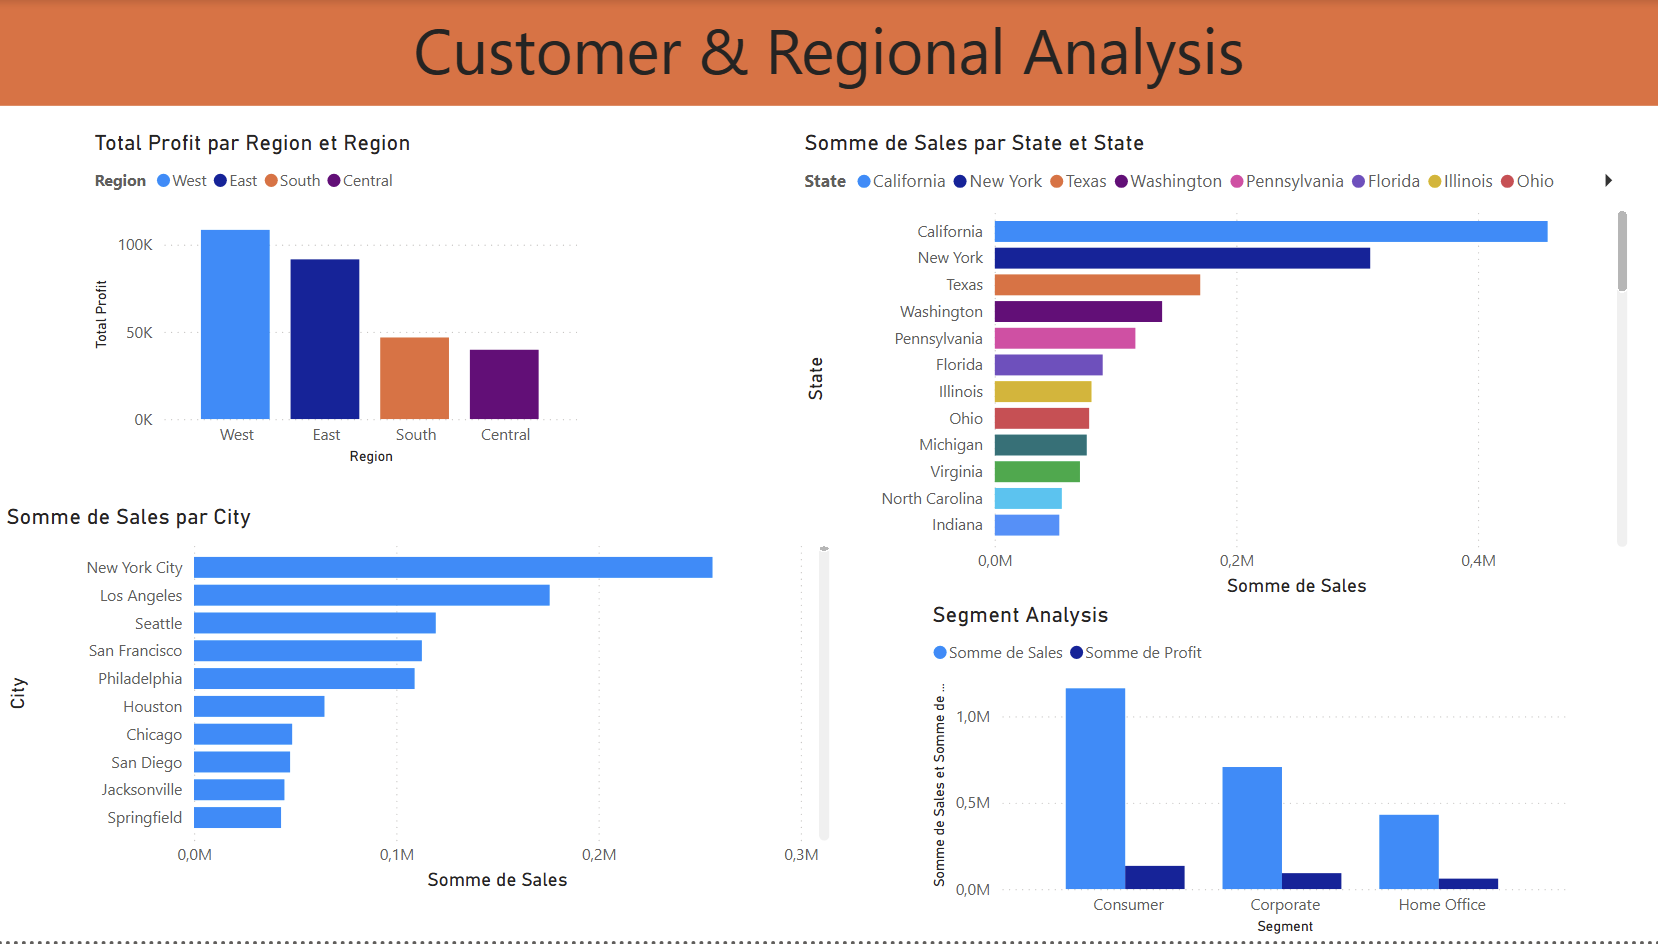

The page's visual inventory and layout, read from the dashboard file:
{"tool":"powerbi","page":{"name":"Customer & Regional Analysis","canvas":[1280,720],"ordinal":2},"visuals":[{"type":"textbox","box":[10.7,0,1269.3,81.1],"z":0},{"type":"columnChart","fields":{"Category":["SampleSuperstore.Region"],"Y":["SampleSuperstore.Total Profit"],"Series":["SampleSuperstore.Region"]},"box":[78.1,99.5,379.7,260.3],"z":1000},{"type":"barChart","fields":{"Category":["SampleSuperstore.State"],"Y":["Sum(SampleSuperstore.Sales)"],"Series":["SampleSuperstore.State"]},"box":[621.6,99.5,640,361.3],"z":2000},{"type":"clusteredColumnChart","title":"Segment Analysis","fields":{"Category":["SampleSuperstore.Segment"],"Y":["Sum(SampleSuperstore.Sales)","Sum(SampleSuperstore.Profit)"]},"box":[719.6,460.9,496.1,258.8],"z":3000},{"type":"barChart","fields":{"Category":["SampleSuperstore.City"],"Y":["Sum(SampleSuperstore.Sales)"]},"box":[10.7,385.8,640,300.1],"z":4000}]}

Visuals, with their boxes in screenshot pixels (x1, y1, x2, y2), scaled from the page's 1280x720 canvas onto the 1658x944 screenshot:
textbox: 14 0 1657 106
columnChart - SampleSuperstore.Region x SampleSuperstore.Total Profit: 101 130 593 472
barChart - SampleSuperstore.State x Sum(SampleSuperstore.Sales): 805 130 1634 604
"Segment Analysis" clusteredColumnChart: 932 604 1575 943
barChart - SampleSuperstore.City x Sum(SampleSuperstore.Sales): 14 506 843 899
